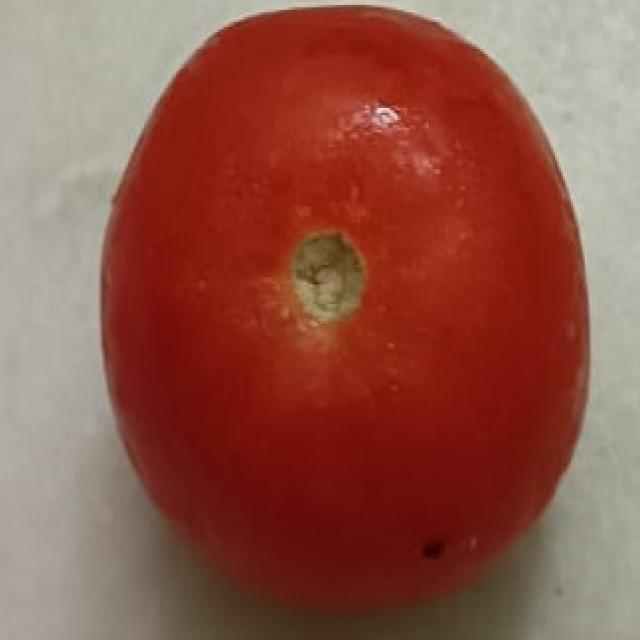ripe tomato: (65, 0, 613, 609)
